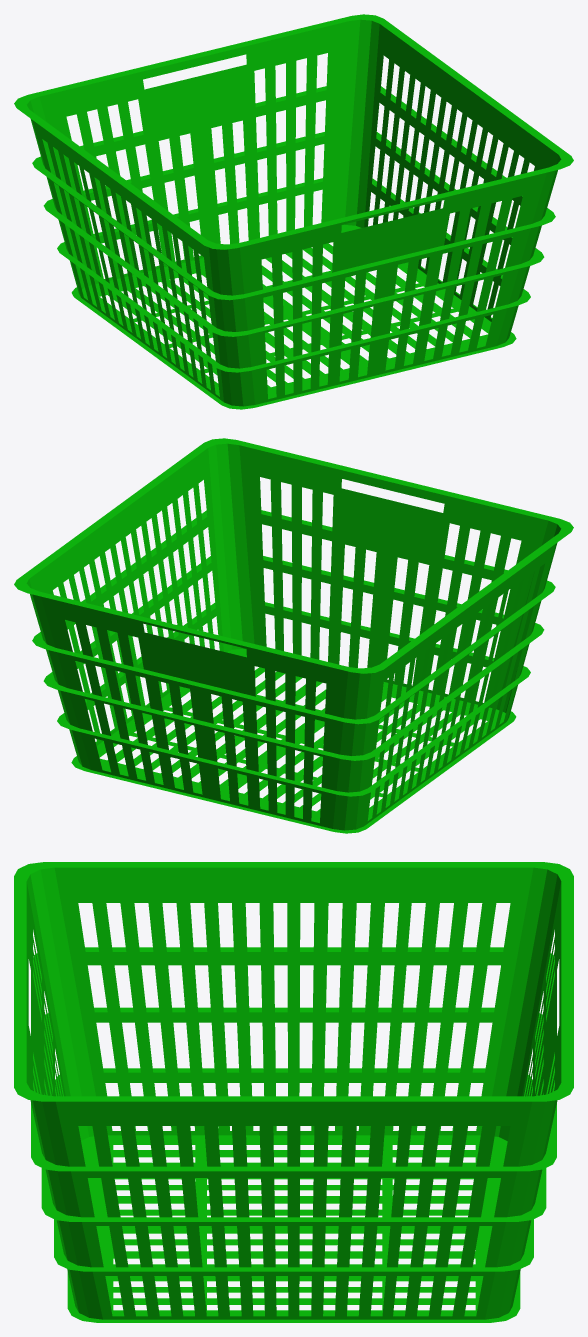
Rendered from scene_grocery.glb.
3 views of the same model, one above another, from view 1: azimuth 30°, elevation 25°; view 2: azimuth 150°, elevation 25°; view 3: azimuth 270°, elevation 25° (orthographic). The views are drawn at different scales.
Parts seen in each view (by area): view 1: scene_grocery_part0; view 2: scene_grocery_part0; view 3: scene_grocery_part0.
Part boxes in pixels (bbox=[...]): scene_grocery_part0: bbox=[14, 14, 573, 409]; scene_grocery_part0: bbox=[14, 438, 573, 833]; scene_grocery_part0: bbox=[14, 862, 573, 1322].
Bounding box in the file's own units: 1 × 0.4777 × 0.9876.
